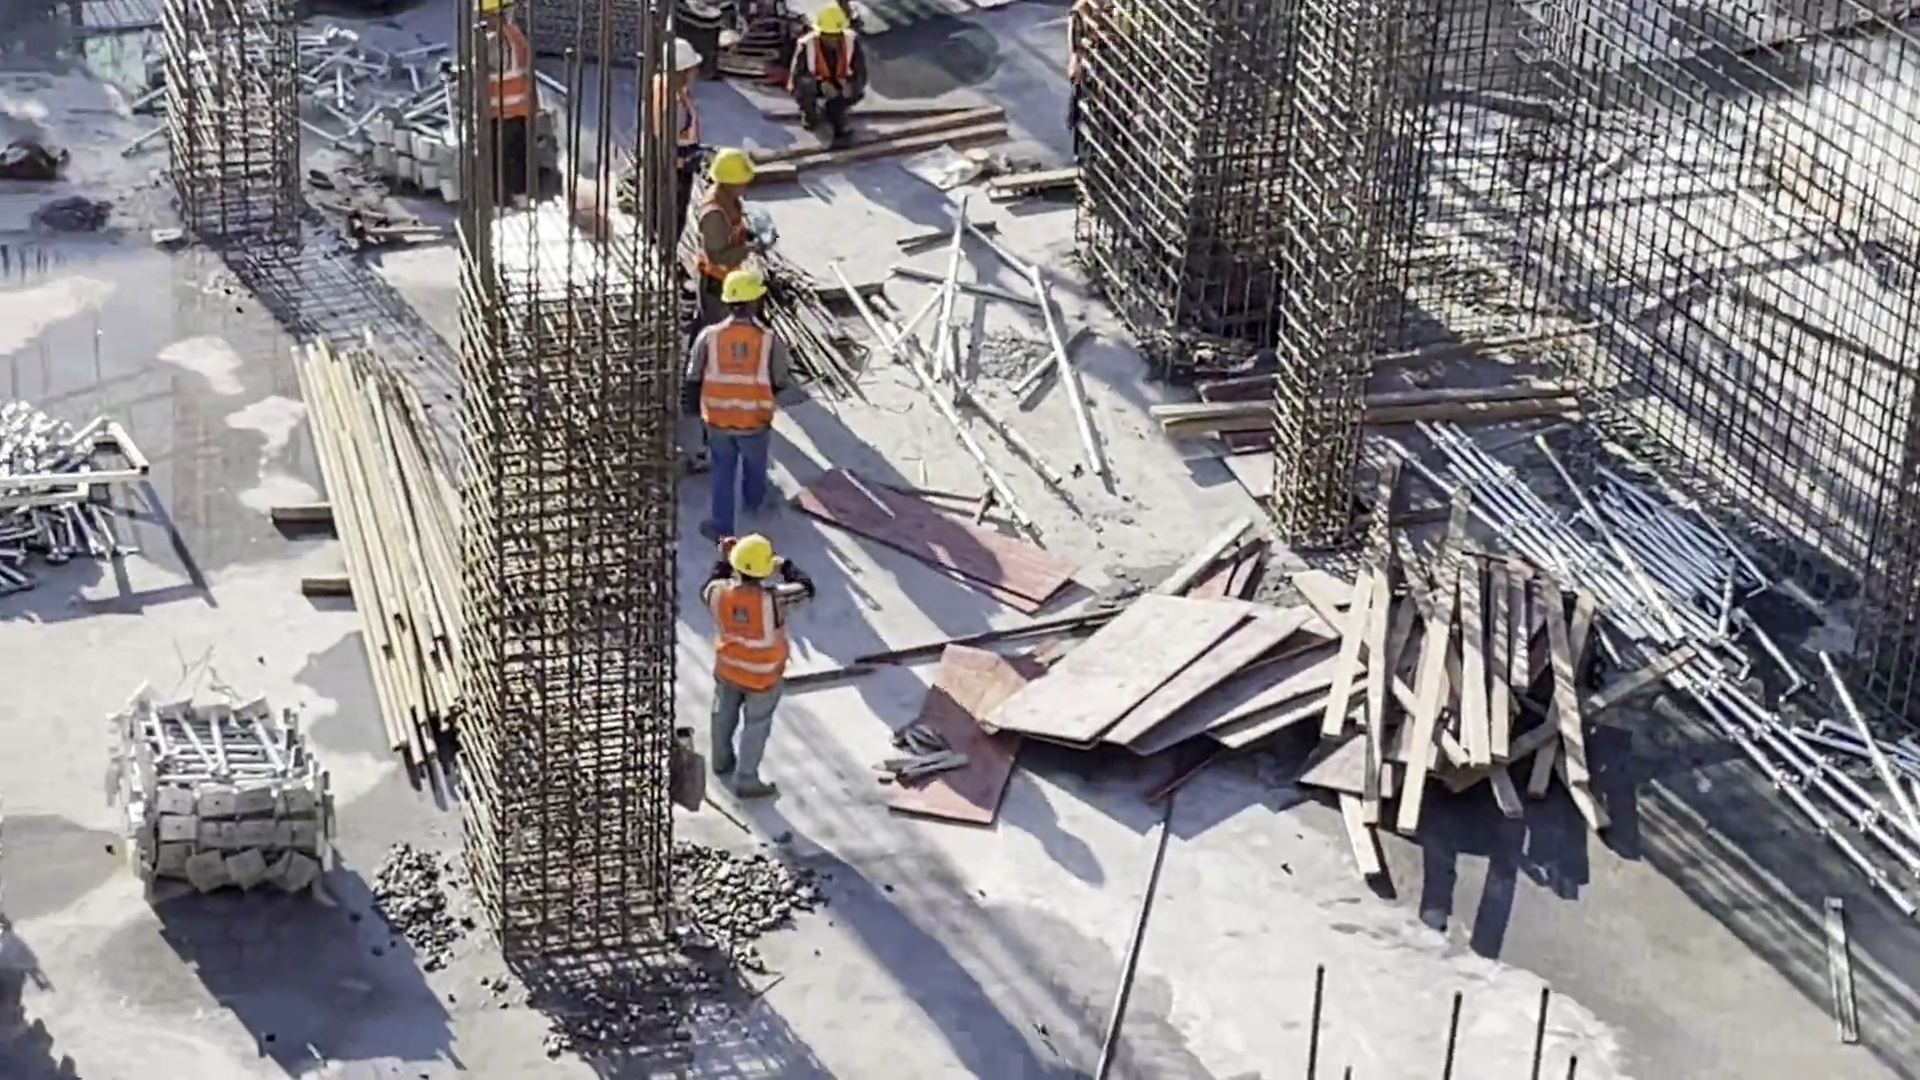board: (1009, 593, 1318, 792)
helmet: (721, 527, 785, 578), (708, 146, 760, 189), (803, 1, 860, 38), (722, 264, 767, 308), (648, 43, 706, 69)
person: (697, 543, 812, 797), (691, 275, 797, 522), (460, 1, 559, 191), (636, 30, 718, 223), (686, 139, 767, 320), (777, 1, 864, 145)
scaffold: (1444, 414, 1918, 881), (105, 679, 323, 897), (1, 400, 161, 574), (353, 80, 561, 193)
vest: (701, 578, 791, 697), (707, 322, 771, 424), (485, 16, 530, 126), (644, 76, 707, 145), (689, 190, 738, 269), (796, 31, 855, 82)
wood: (1332, 552, 1596, 830)
